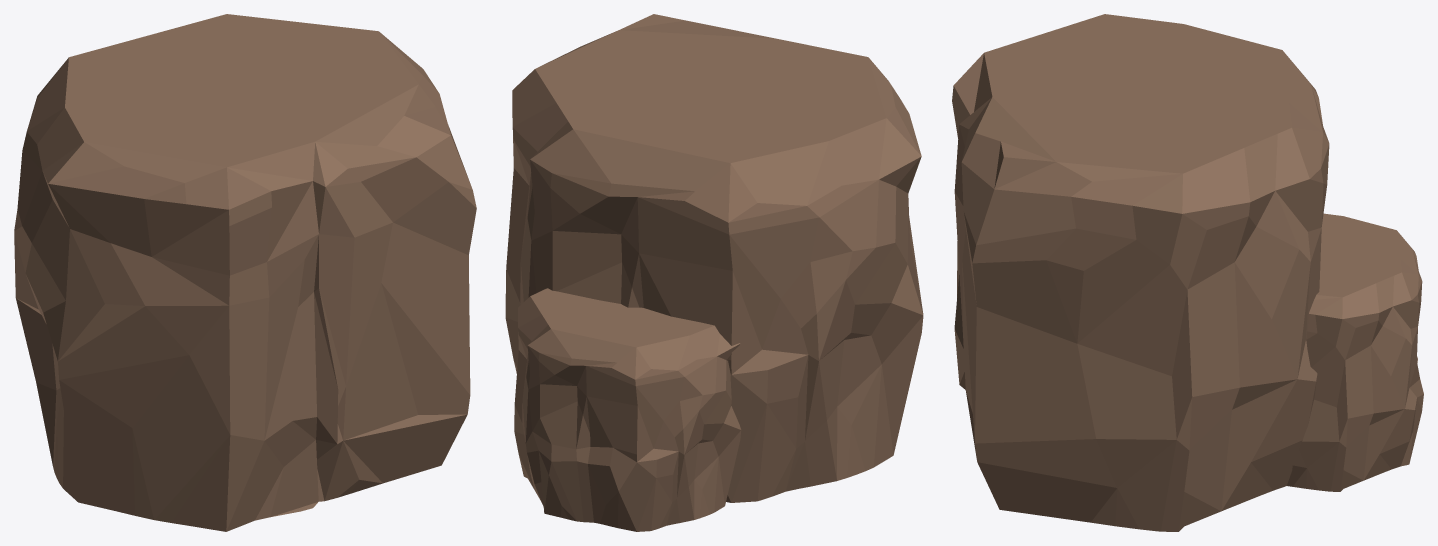
Rendered from dark2_medium_rock.fbx.
3 views of the same model, side by side, from view 1: azimuth 30°, elevation 25°; view 2: azimuth 150°, elevation 25°; view 3: azimuth 270°, elevation 25° (orthographic). The views are drawn at different scales.
Parts seen in each view (by area): view 1: dark2_medium_rock; view 2: dark2_medium_rock; view 3: dark2_medium_rock.
Part boxes in pixels (box(x1,y1,x2,y2)): dark2_medium_rock: box(14, 14, 476, 531); dark2_medium_rock: box(505, 14, 923, 531); dark2_medium_rock: box(952, 14, 1423, 531).
Bounding box in the file's own units: 7.1 × 6.09 × 7.42.
